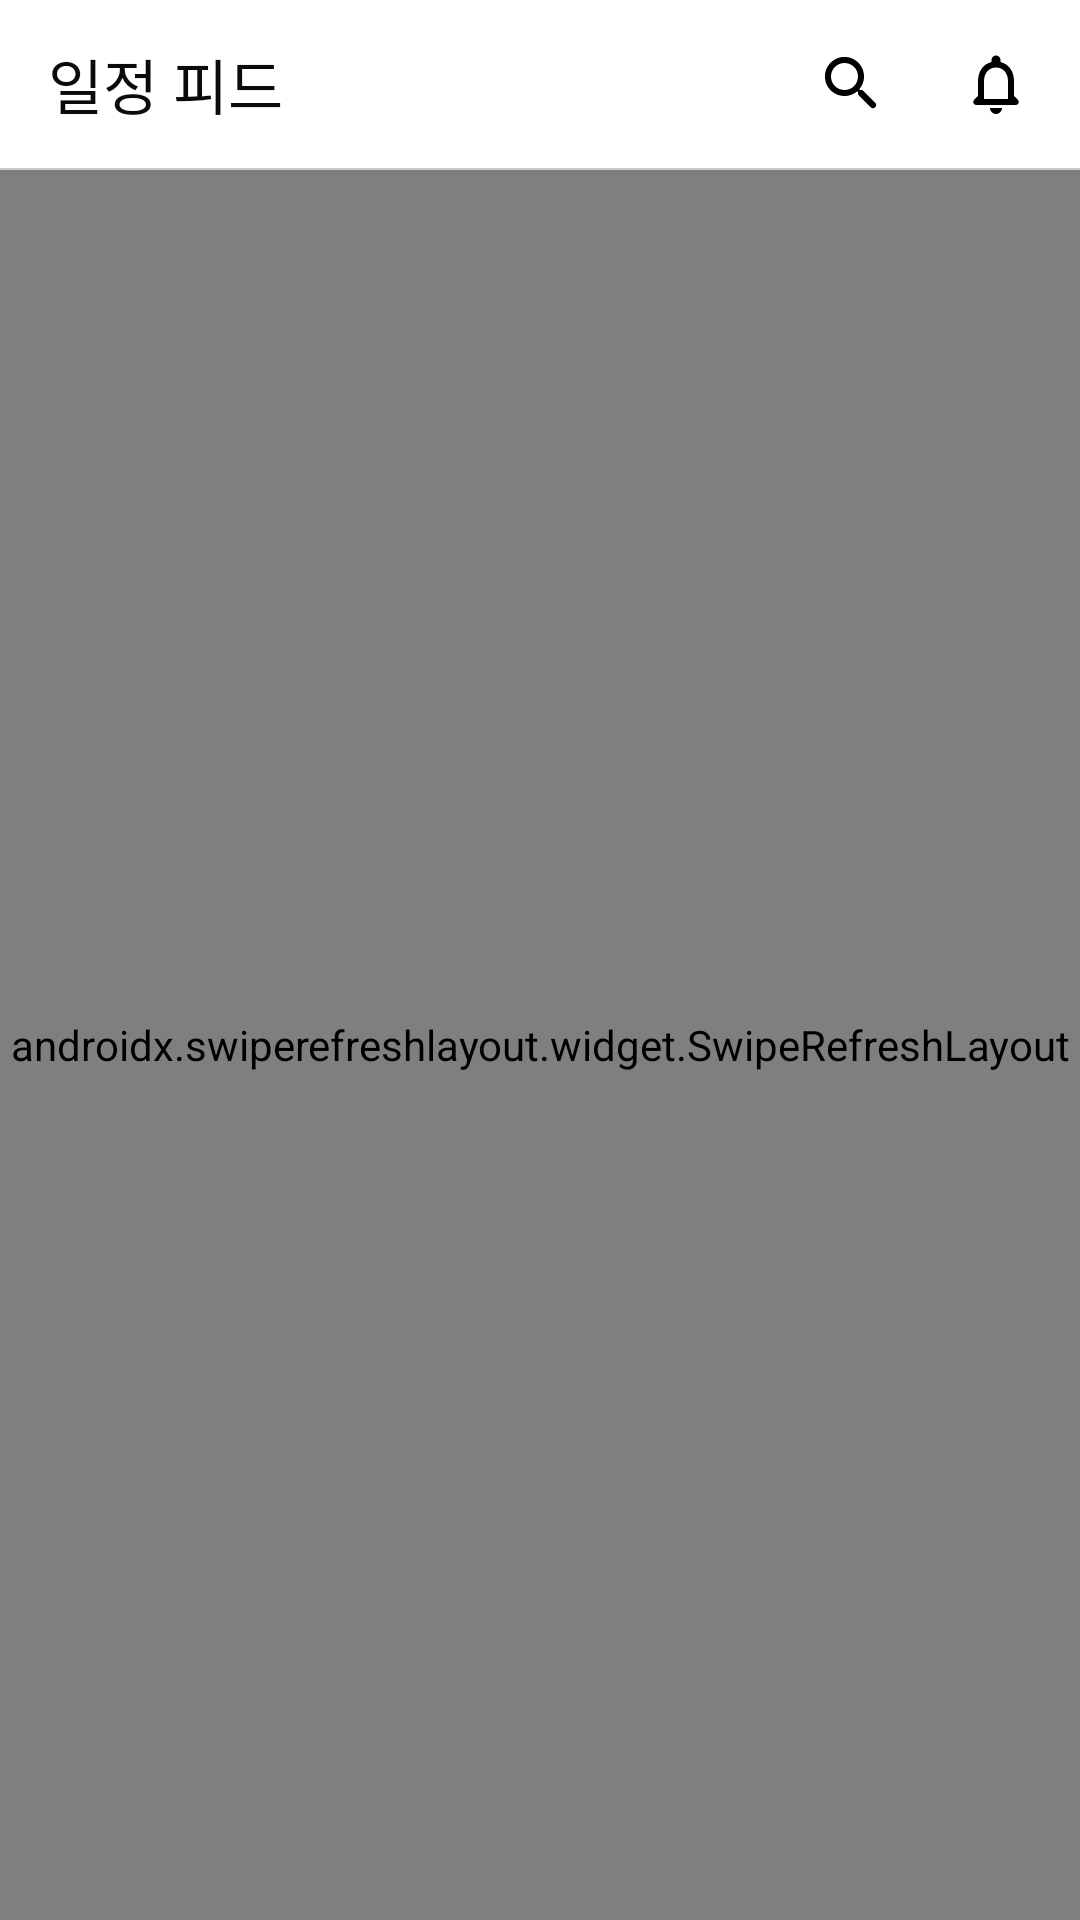

Screen size 1080x1920. Icon name, then its center in pixels as point (x, y):
notifications none: point (996, 84)
search: point (851, 83)
